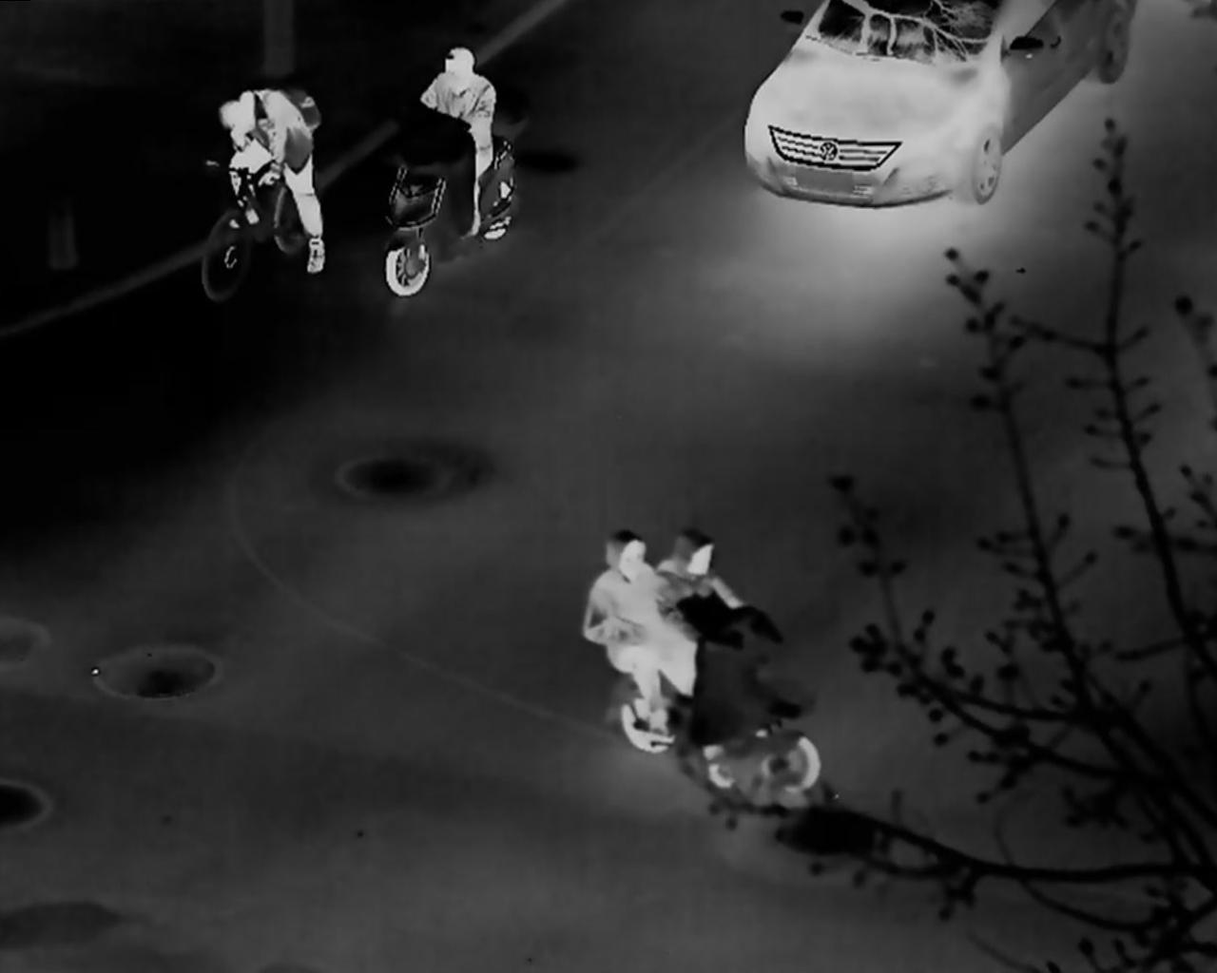person: (218, 83, 328, 277), (577, 528, 672, 735), (422, 42, 498, 236), (654, 523, 756, 620)
